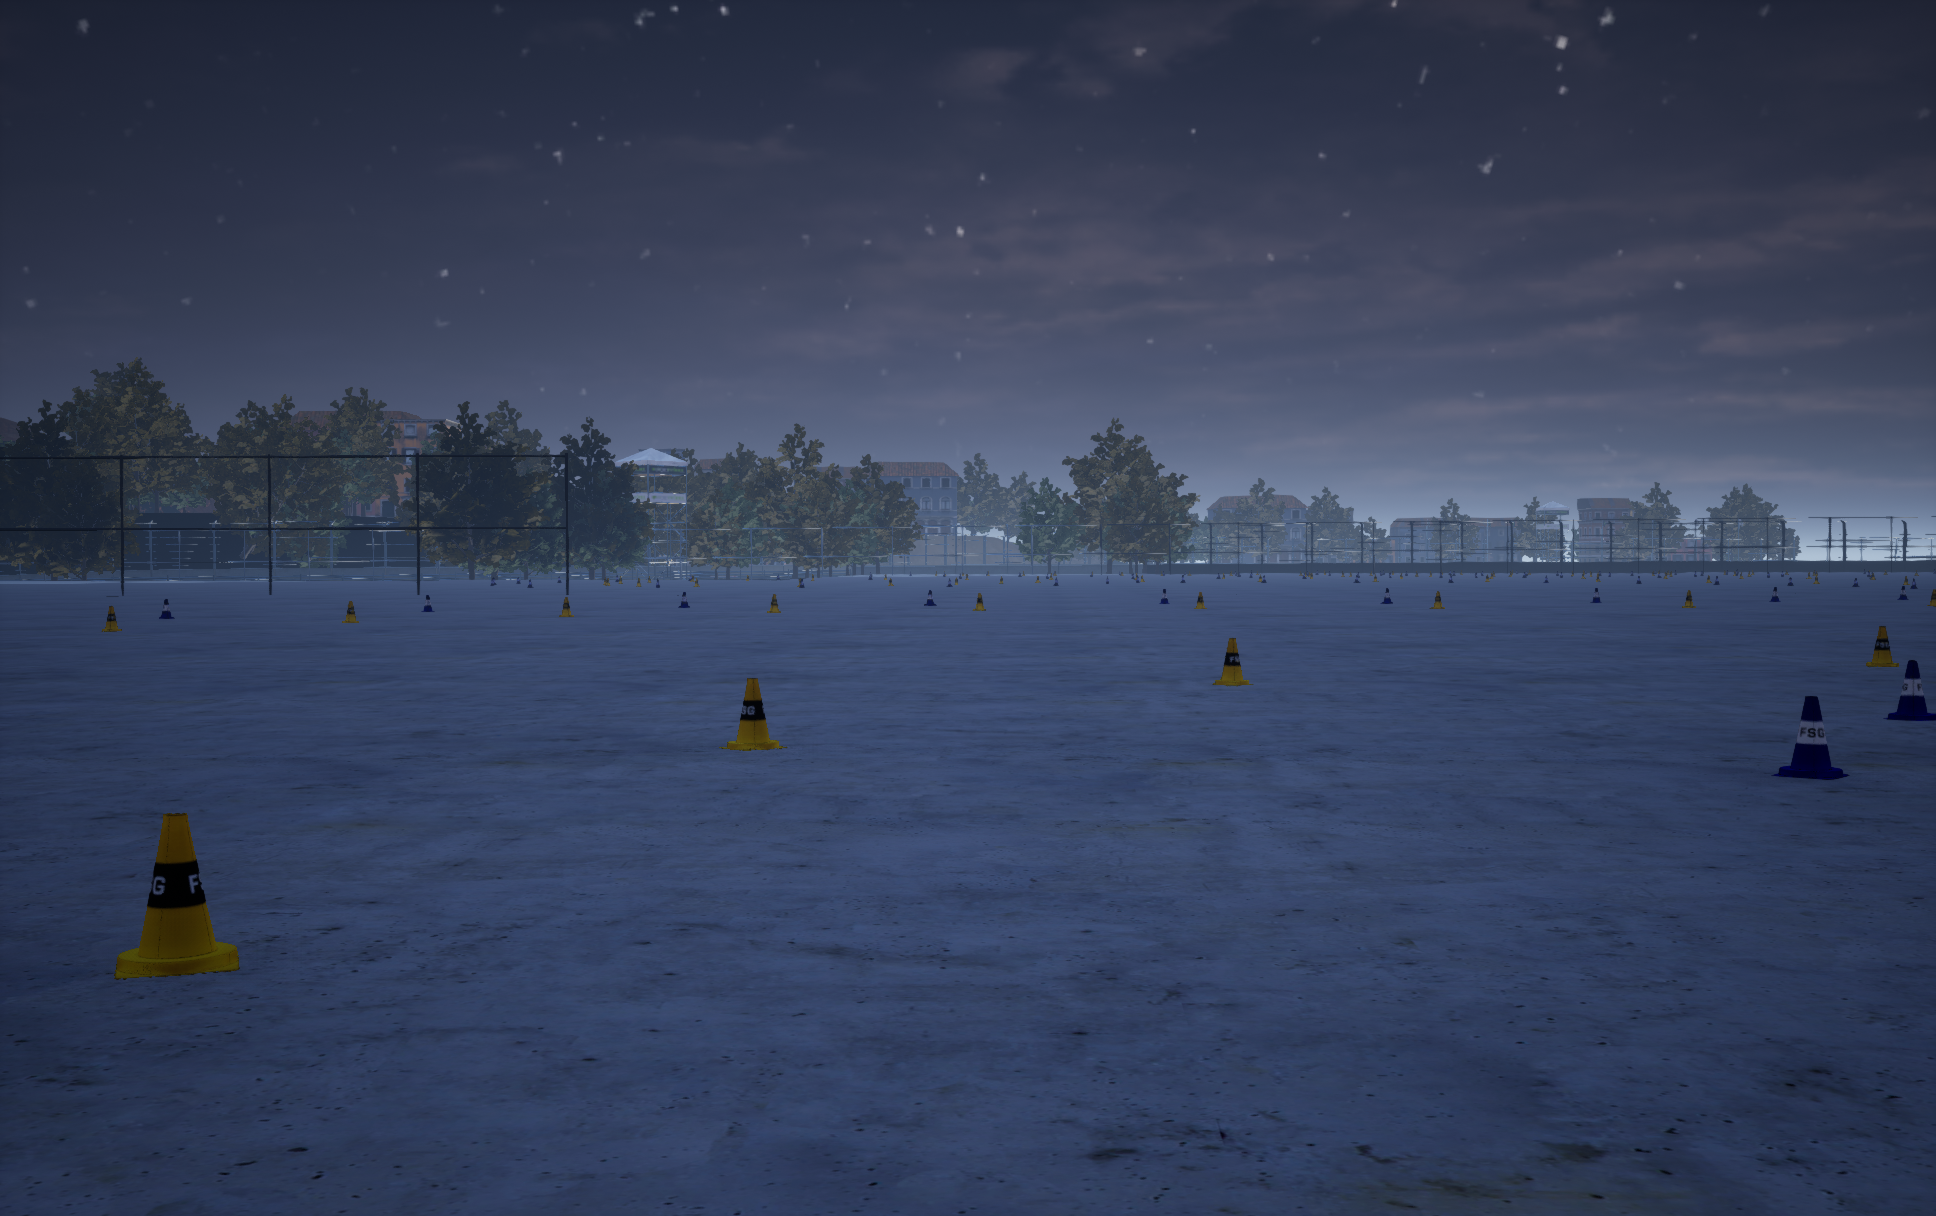blue: (113, 813, 240, 979), (719, 678, 787, 749), (1212, 637, 1252, 685), (1866, 626, 1898, 665), (101, 607, 120, 630), (342, 601, 359, 622), (559, 597, 573, 616), (768, 594, 780, 612), (972, 593, 985, 609)
yellow: (1771, 696, 1849, 779), (1883, 660, 1935, 720), (160, 600, 174, 618)
